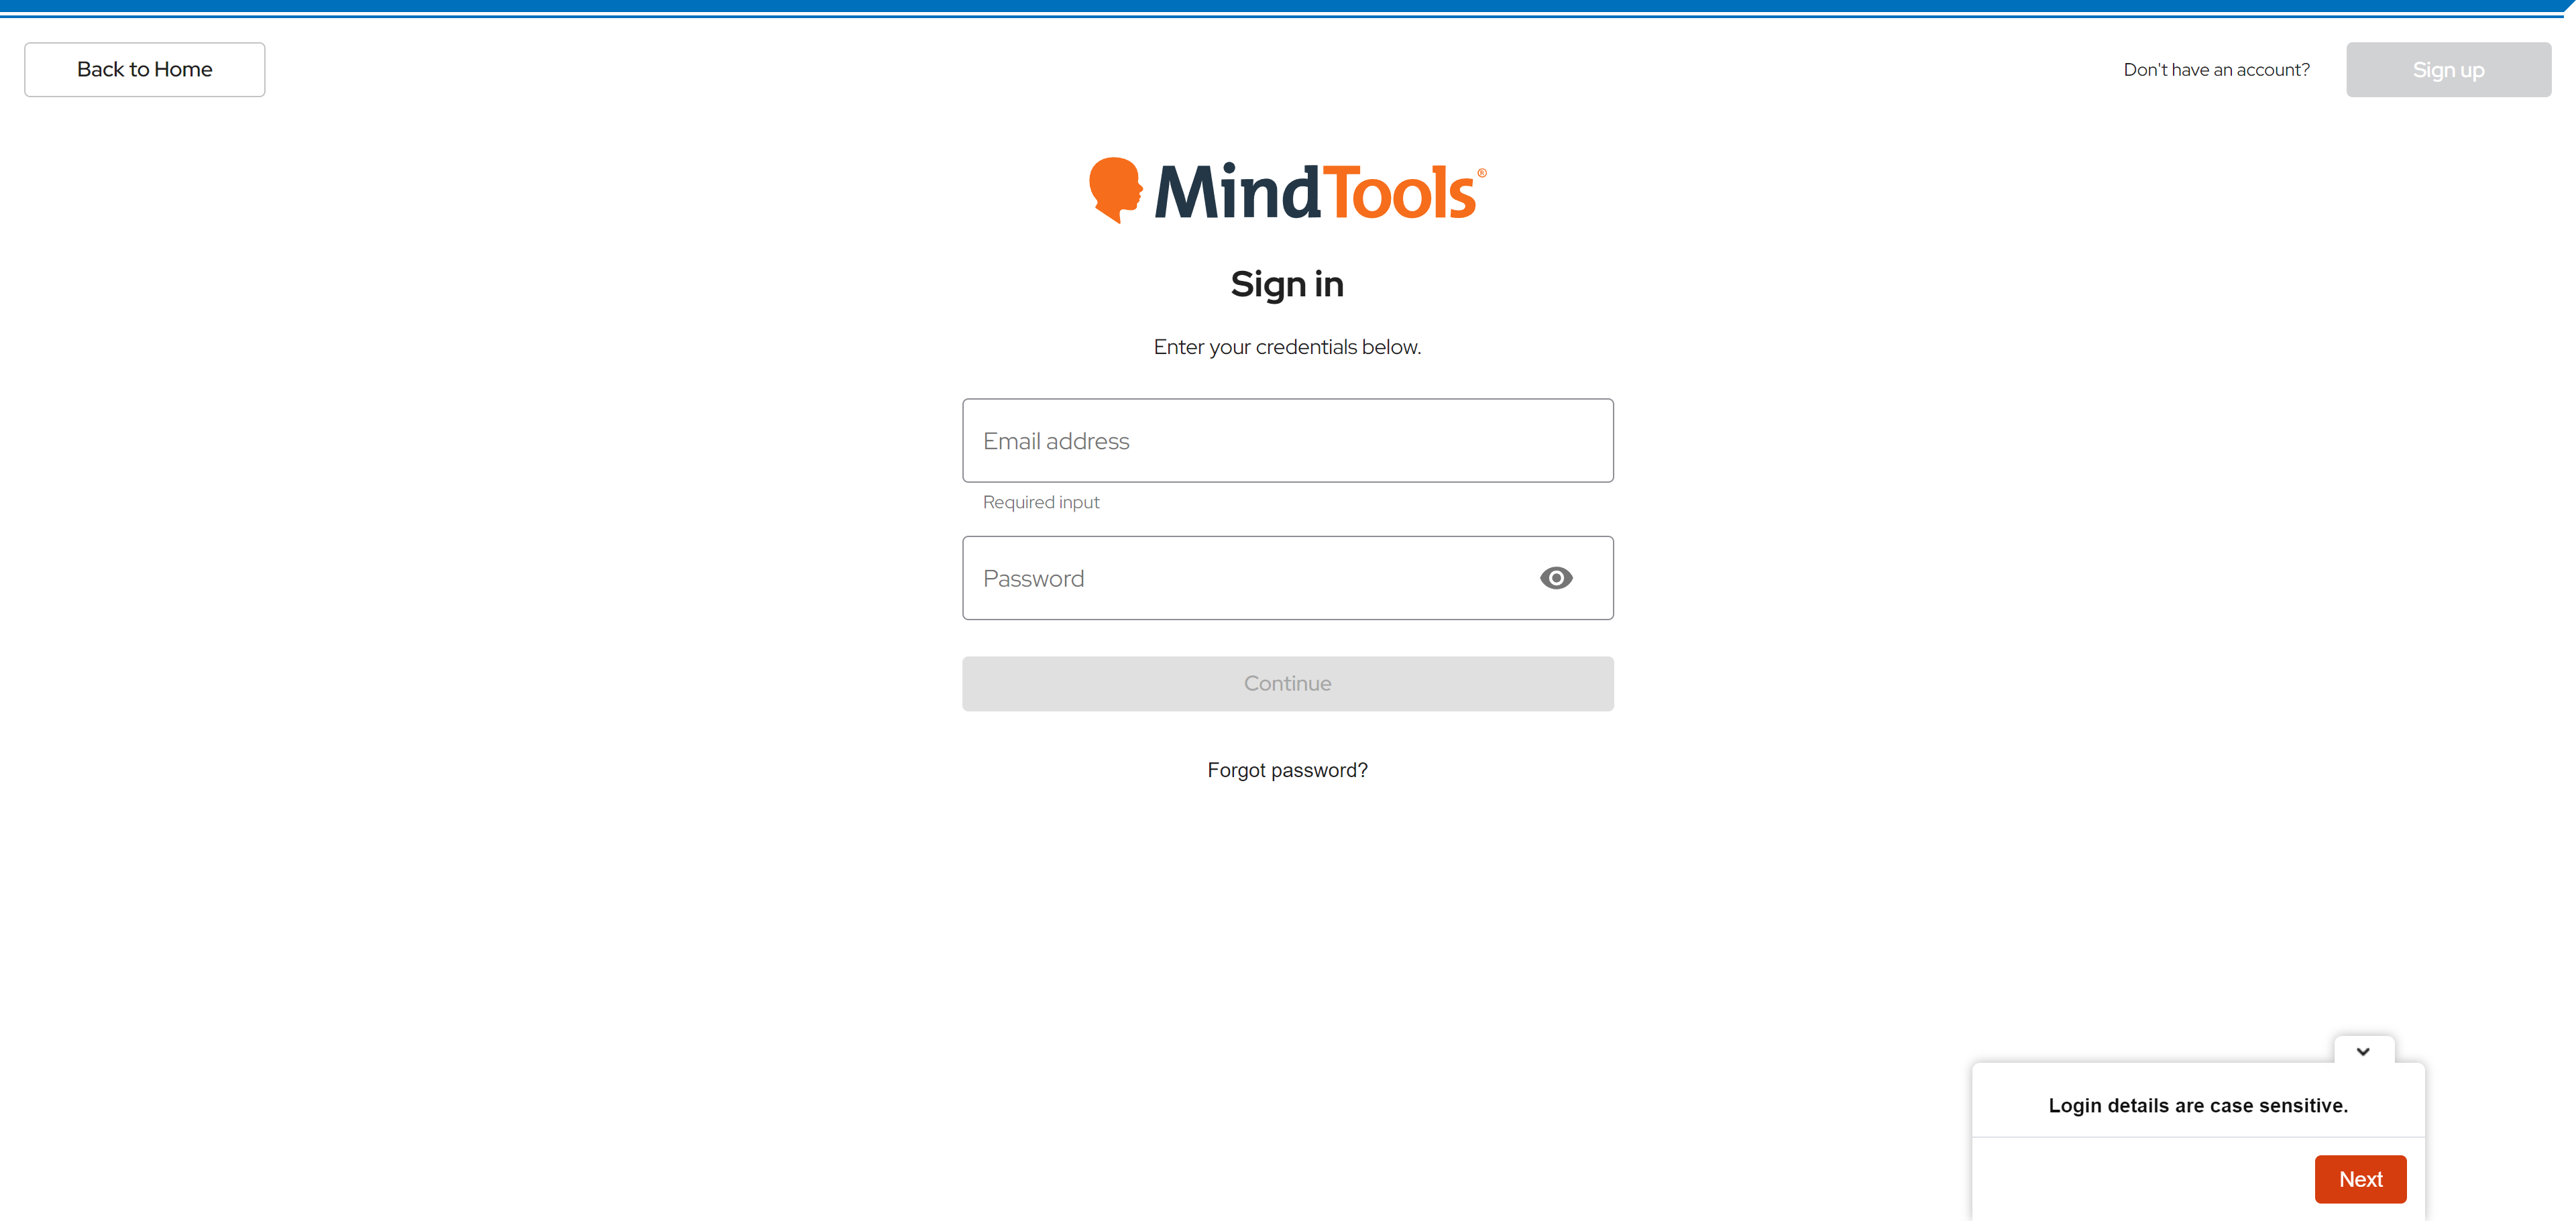login_button: (964, 657, 1613, 710)
login_form: (956, 393, 1621, 716)
